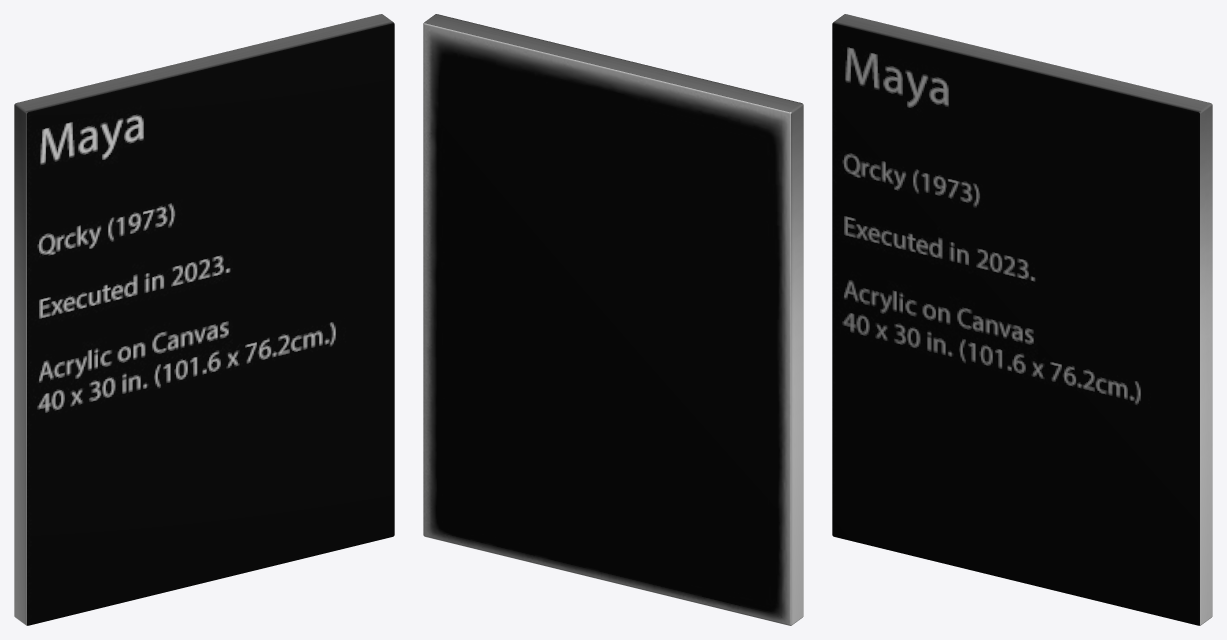
Rendered from maya.glb.
3 renders of one model, left to right at view 1: azimuth 30°, elevation 25°; view 2: azimuth 150°, elevation 25°; view 3: azimuth 330°, elevation 25°, orthographic.
Visible parts, largest first — view 1: Canvas; view 2: Canvas; view 3: Canvas.
Part boxes in pixels (<box>): Canvas: <box>14,14,394,625</box>; Canvas: <box>423,14,803,625</box>; Canvas: <box>832,14,1212,625</box>.
Size of the model in its own units: 1.56 by 2.08 by 0.0956.
Materials: 1 (1 with a texture image).
